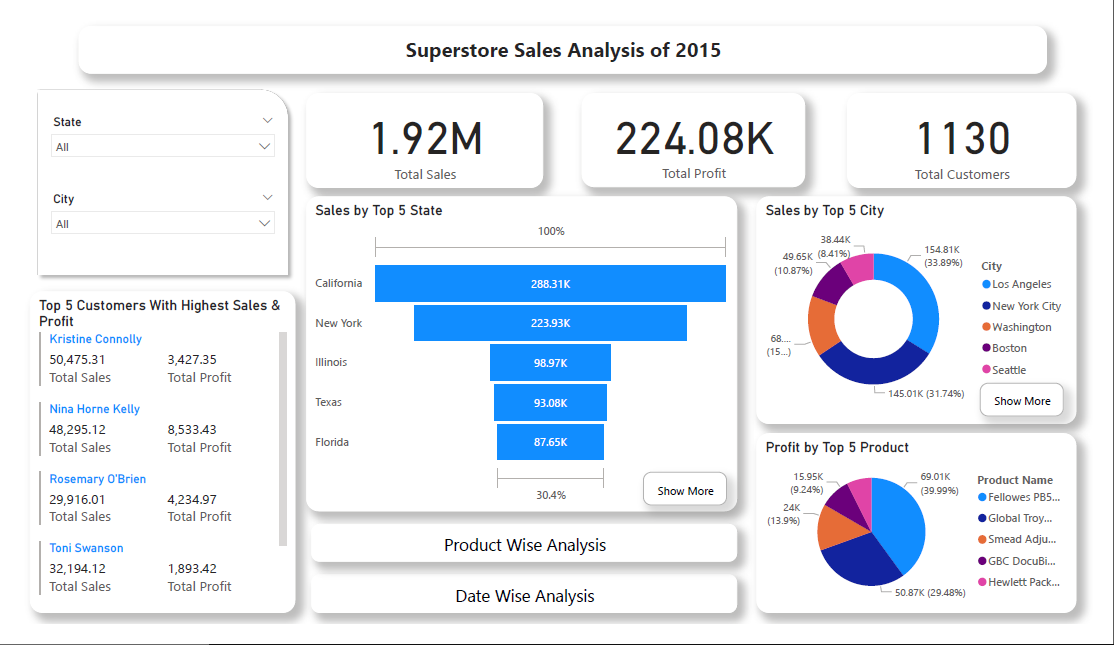

The page's visual inventory and layout, read from the dashboard file:
{"tool":"powerbi","page":{"name":"Superstore Sales Analysis of 2015","canvas":[1280,720],"ordinal":0},"visuals":[{"type":"textbox","box":[72.4,8.4,1153,56.7],"z":0},{"type":"card","fields":{"Values":["Order Details.Total Sales"]},"box":[342.5,88,282.2,113.4],"z":1000},{"type":"card","fields":{"Values":["Order Details.Total Profit"]},"box":[670.6,88,266.5,112.2],"z":2000},{"type":"shape","box":[14.5,76,316,237.6],"z":3000},{"type":"slicer","fields":{"Values":["Order Details.State"]},"box":[28.9,108.5,287,82],"z":4000},{"type":"slicer","fields":{"Values":["Order Details.City"]},"box":[28.9,201.4,287,82],"z":5000},{"type":"card","fields":{"Values":["Customer.Total Customers"]},"box":[986.5,88,273.8,113.4],"z":6000},{"type":"multiRowCard","title":"Top 5 Customers With Highest Sales & Profit","fields":{"Values":["Customer.Customer Name","Order Details.Sales","Order Details.Profit"]},"box":[14.5,324.4,316,382.3],"z":7000},{"type":"funnel","title":"Sales by Top 5 State","fields":{"Category":["Order Details.State"],"Y":["Order Details.Sales"]},"box":[342.5,211.1,513.8,375.1],"z":8000},{"type":"donutChart","title":"Sales by Top 5 City","fields":{"Y":["Order Details.Sales"],"Category":["Order Details.City"]},"box":[879.2,211.1,381.1,271.4],"z":9000},{"type":"actionButton","box":[744.1,539.1,100.1,39.8],"z":10000},{"type":"actionButton","box":[1144.5,433,100.1,39.8],"z":11000},{"type":"pieChart","title":"Profit by Top 5 Product","fields":{"Y":["Order Details.Sales"],"Category":["Order Details.Product Name"]},"box":[879.2,493.3,381.1,213.5],"z":12000},{"type":"actionButton","box":[348.5,660.9,507.7,45.8],"z":13000},{"type":"actionButton","box":[348.5,600.6,507.7,45.8],"z":14000}]}

Visuals, with their boxes in screenshot pixels (x1, y1, x2, y2), scaled from the page's 1280x720 canvas onto the 1114x645 screenshot:
textbox: pyautogui.locateOnScreen(63, 8, 1066, 58)
card - Order Details.Total Sales: pyautogui.locateOnScreen(298, 79, 544, 180)
card - Order Details.Total Profit: pyautogui.locateOnScreen(584, 79, 816, 179)
shape: pyautogui.locateOnScreen(13, 68, 288, 281)
slicer - Order Details.State: pyautogui.locateOnScreen(25, 97, 275, 171)
slicer - Order Details.City: pyautogui.locateOnScreen(25, 180, 275, 254)
card - Customer.Total Customers: pyautogui.locateOnScreen(859, 79, 1097, 180)
"Top 5 Customers With Highest Sales & Profit" multiRowCard: pyautogui.locateOnScreen(13, 291, 288, 633)
"Sales by Top 5 State" funnel: pyautogui.locateOnScreen(298, 189, 745, 525)
"Sales by Top 5 City" donutChart: pyautogui.locateOnScreen(765, 189, 1097, 432)
actionButton: pyautogui.locateOnScreen(648, 483, 735, 519)
actionButton: pyautogui.locateOnScreen(996, 388, 1083, 424)
"Profit by Top 5 Product" pieChart: pyautogui.locateOnScreen(765, 442, 1097, 633)
actionButton: pyautogui.locateOnScreen(303, 592, 745, 633)
actionButton: pyautogui.locateOnScreen(303, 538, 745, 579)
